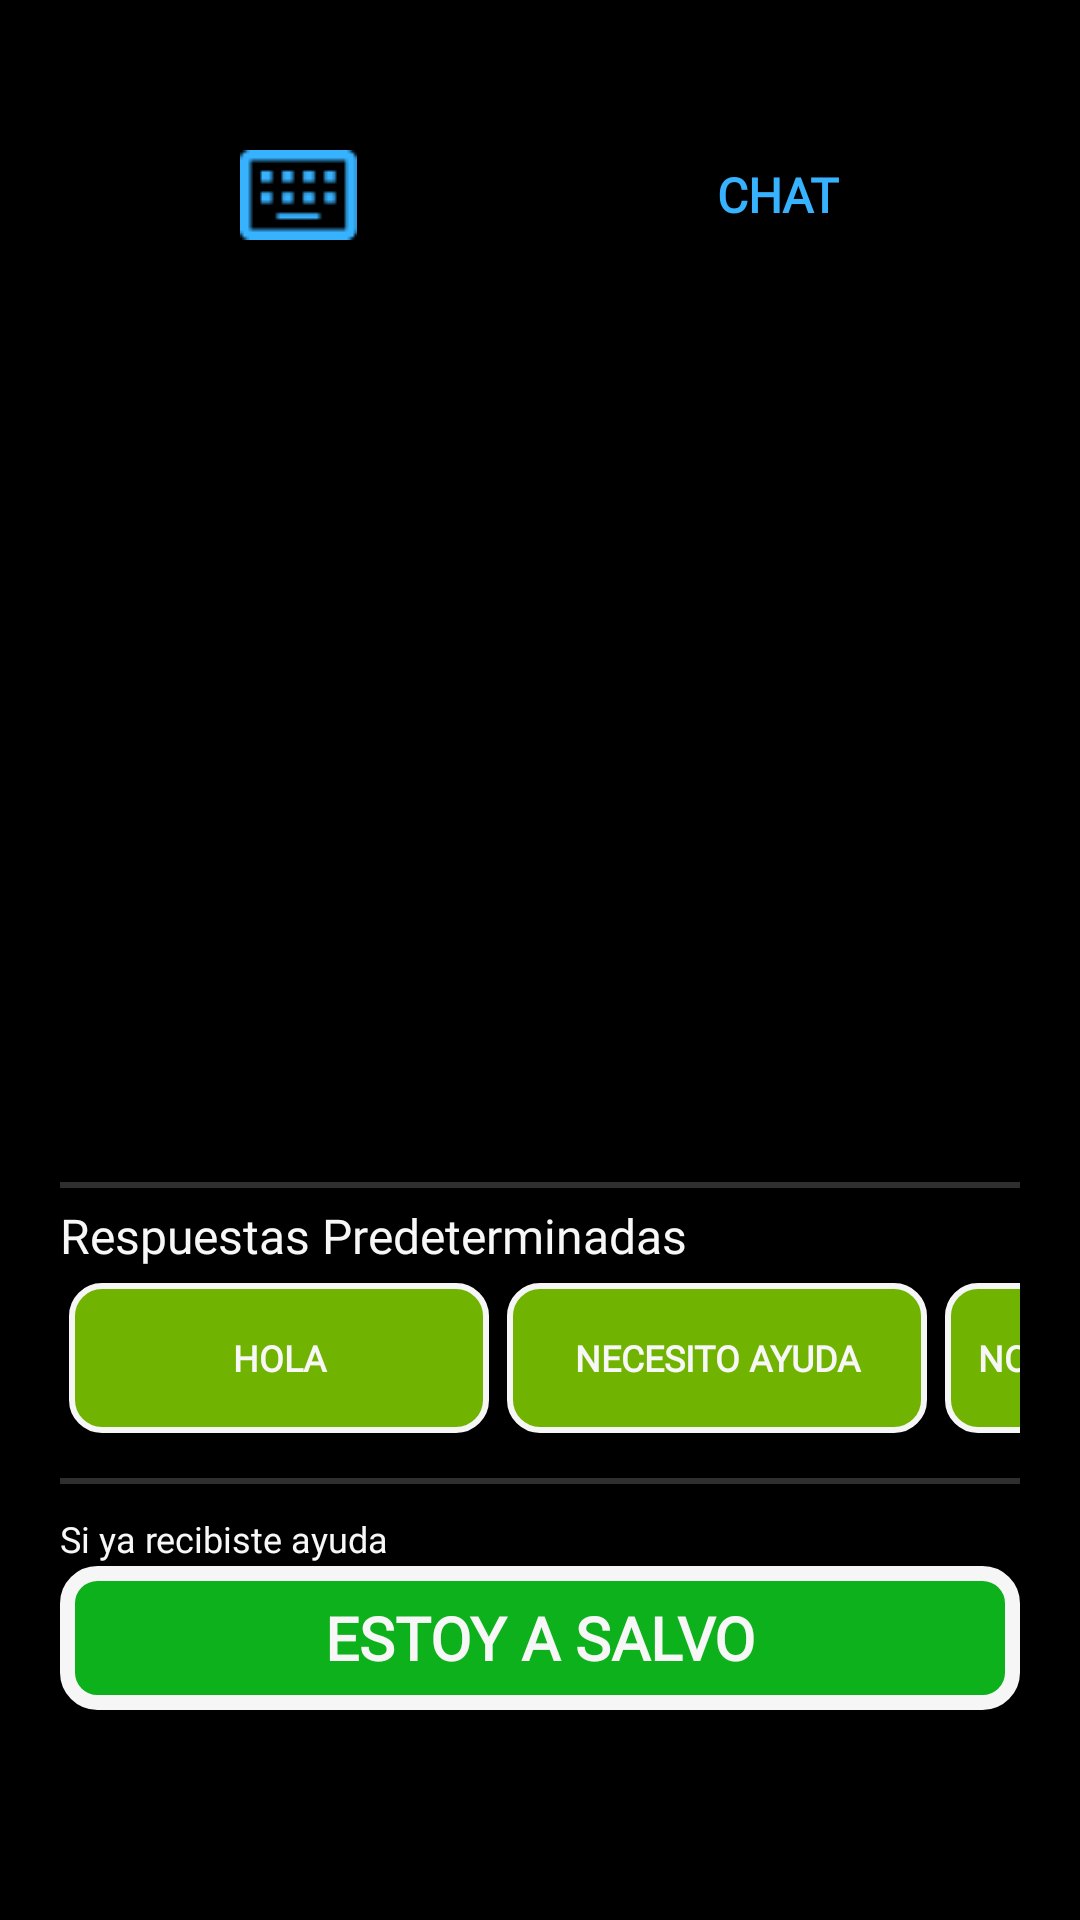

Named icons in this screenshot (1080 × 1920) and their centers, (x=x, y=y):
Activar teclado: (x=298, y=195)
